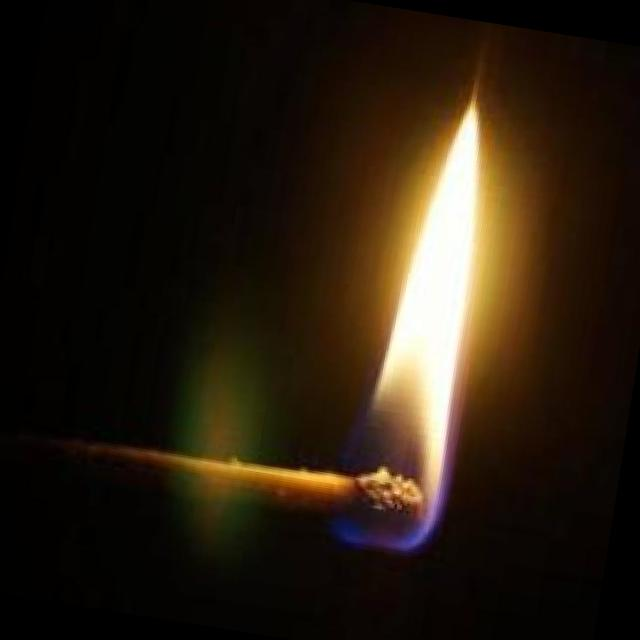Fire: (348, 91, 503, 560)
